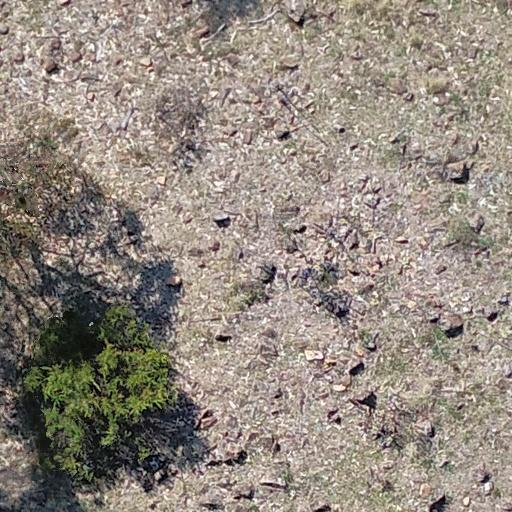stone: (334, 221, 362, 250), (438, 305, 466, 334), (206, 448, 248, 466), (350, 391, 378, 413), (198, 406, 222, 430), (442, 167, 467, 187), (204, 236, 230, 255), (282, 216, 308, 234), (271, 123, 290, 142), (169, 272, 187, 292), (426, 494, 446, 512), (231, 481, 253, 497), (417, 419, 436, 437), (211, 210, 233, 225), (280, 60, 299, 77), (191, 20, 210, 37), (288, 9, 308, 25), (222, 54, 242, 68), (269, 436, 283, 456), (432, 92, 451, 106), (279, 58, 301, 70), (475, 467, 491, 483), (316, 168, 332, 184), (42, 59, 58, 74), (481, 304, 496, 320), (310, 501, 331, 512), (352, 349, 362, 372), (199, 501, 222, 510), (417, 9, 439, 18), (12, 50, 26, 64), (338, 374, 352, 388), (326, 408, 340, 422), (349, 48, 364, 61), (47, 36, 63, 48), (242, 130, 254, 146), (366, 188, 376, 207), (214, 333, 232, 343), (139, 56, 153, 68), (67, 53, 83, 62), (402, 92, 414, 102), (435, 265, 447, 275), (0, 24, 10, 35), (450, 136, 459, 146)
